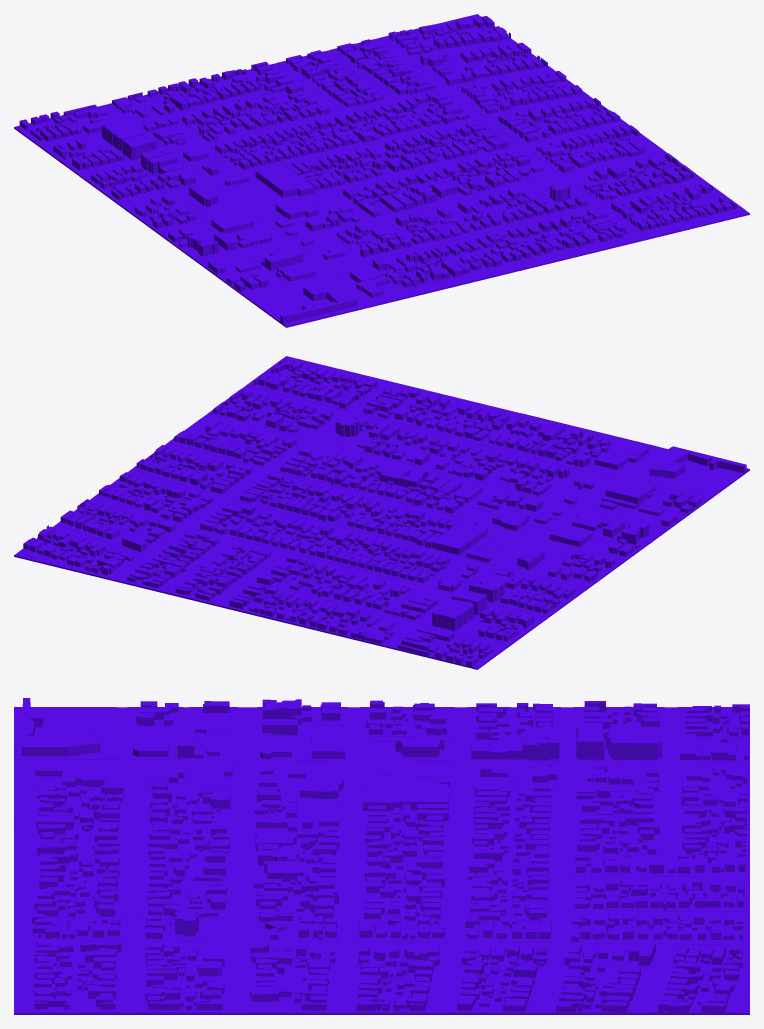
The model's file is site.glb.
3 views of the same model, one above another, from view 1: azimuth 30°, elevation 25°; view 2: azimuth 150°, elevation 25°; view 3: azimuth 270°, elevation 25° (orthographic). The views are drawn at different scales.
Bounding box in the file's own units: 683 × 20.9 × 695.
